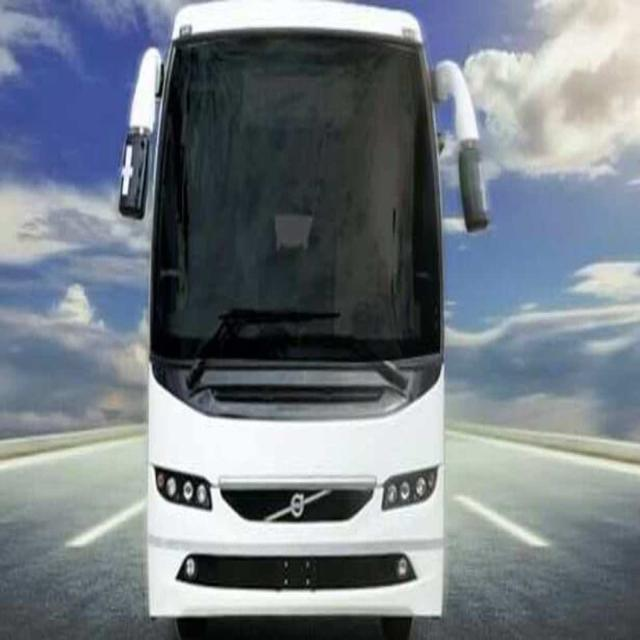bus: (120, 2, 485, 638)
